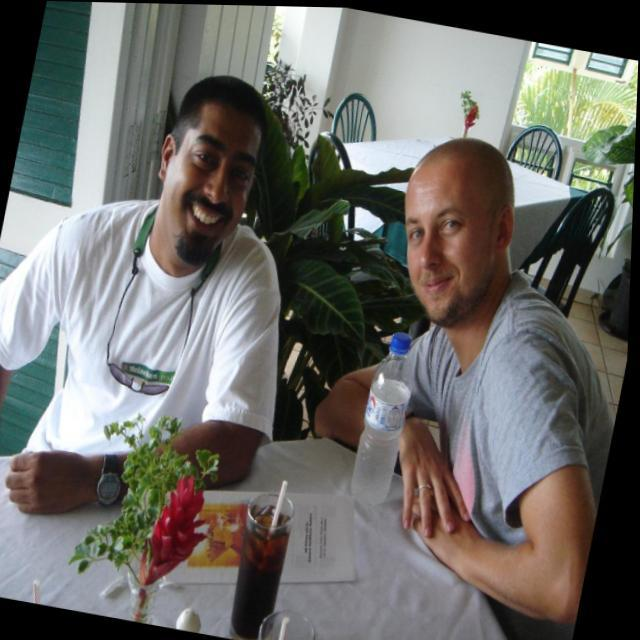Nonhelmet: (147, 70, 281, 275), (397, 134, 519, 328)
